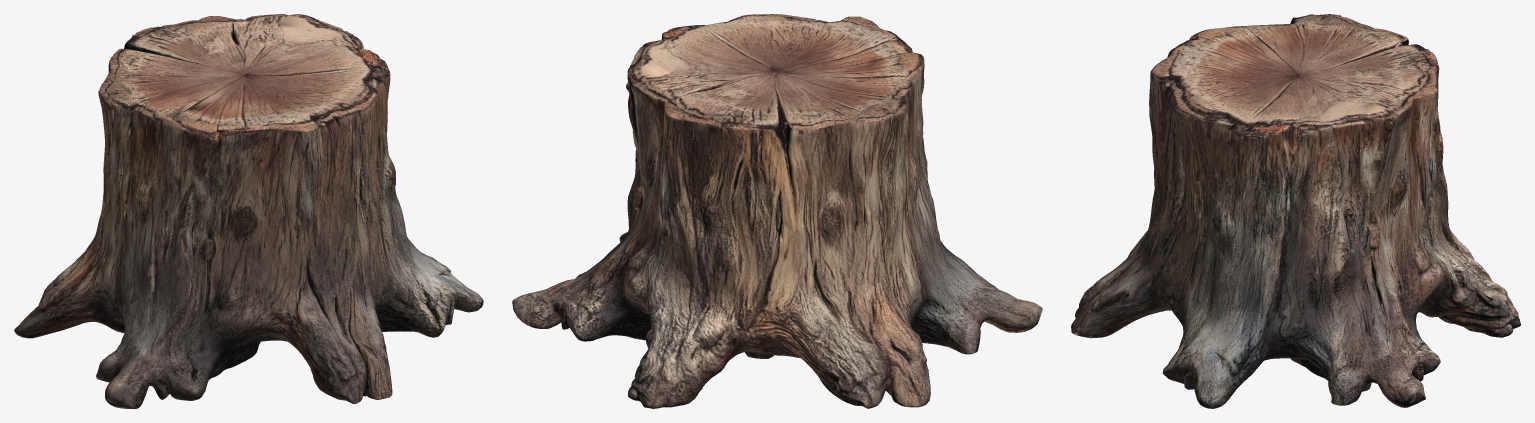
Rendered from stump__tree-stump.glb.
3 renders of one model, left to right at view 1: azimuth 30°, elevation 25°; view 2: azimuth 150°, elevation 25°; view 3: azimuth 270°, elevation 25°, orthographic. The views are drawn at different scales.
Size of the model in its own units: 1.89 by 1.16 by 1.89.
Materials: 1 (1 with a texture image).
